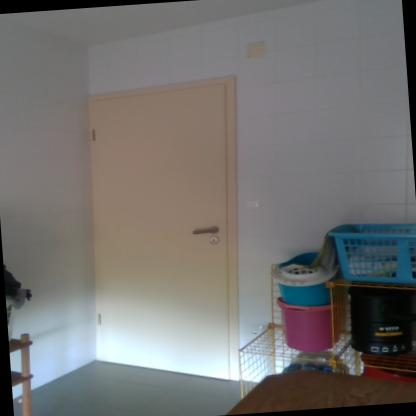closed: (75, 75, 264, 384)
